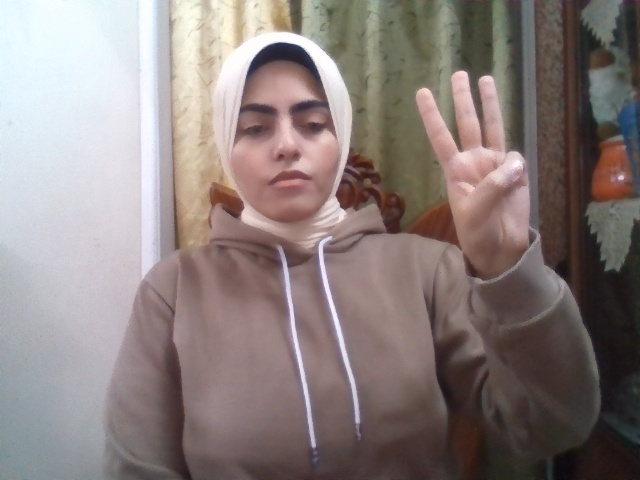W: (415, 70, 530, 256)
